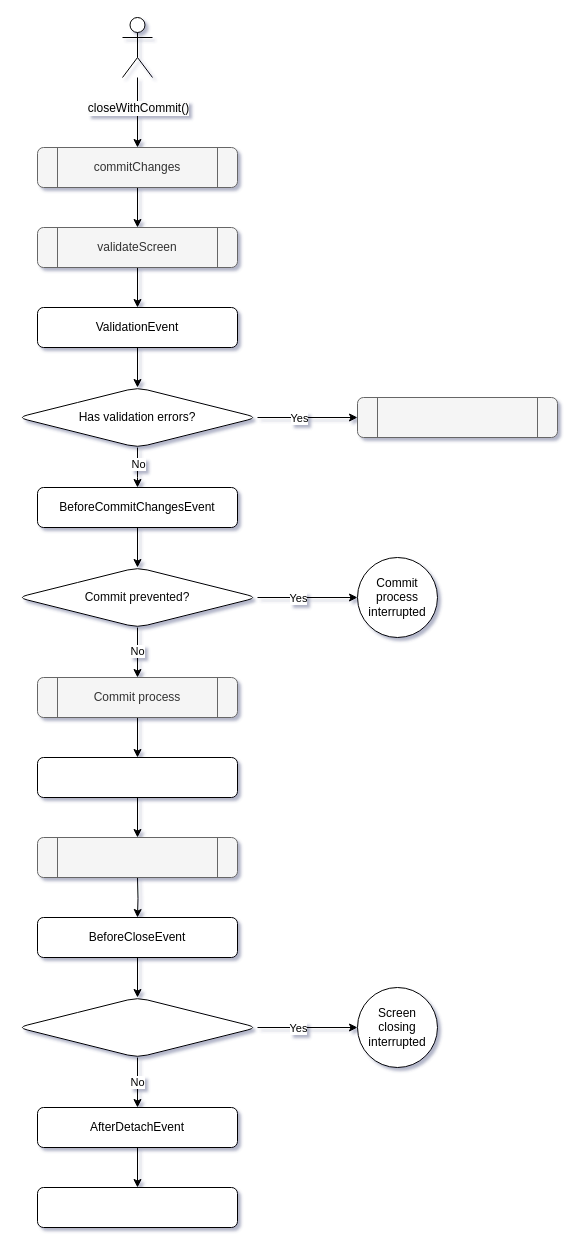
The diagram is 581 pixels wide and 1251 high, and some of its shapes have lost their labels. Here are the shapes that lost their labels. From the top down, the centre of each, then its label:
pixel 457 417: Show validation errors
pixel 137 777: AfterCommitChangesEvent
pixel 137 857: Close(COMMIT)
pixel 137 1027: Close prevented?
pixel 137 1207: AfterCloseEvent
